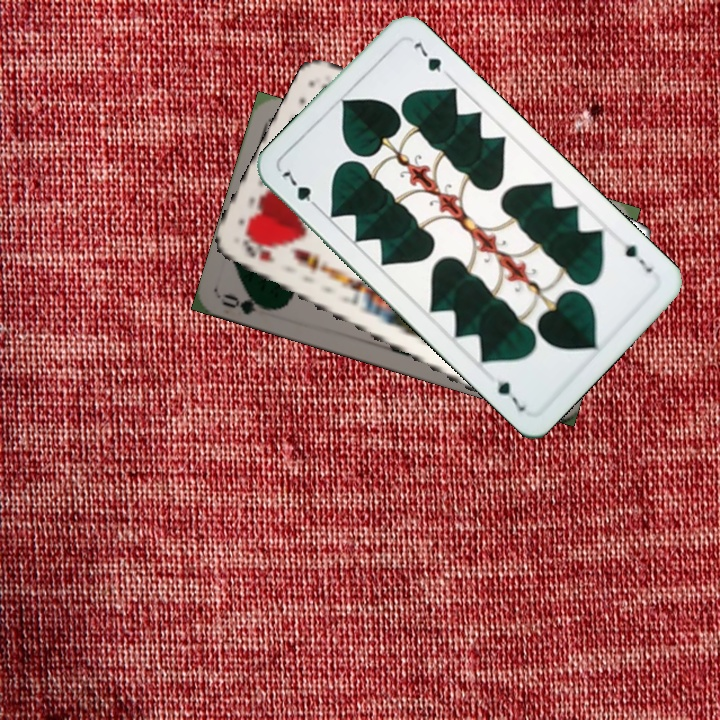G7: (277, 166, 323, 213), (620, 240, 655, 276)
GO: (219, 288, 279, 318)
HK: (239, 234, 278, 265)
